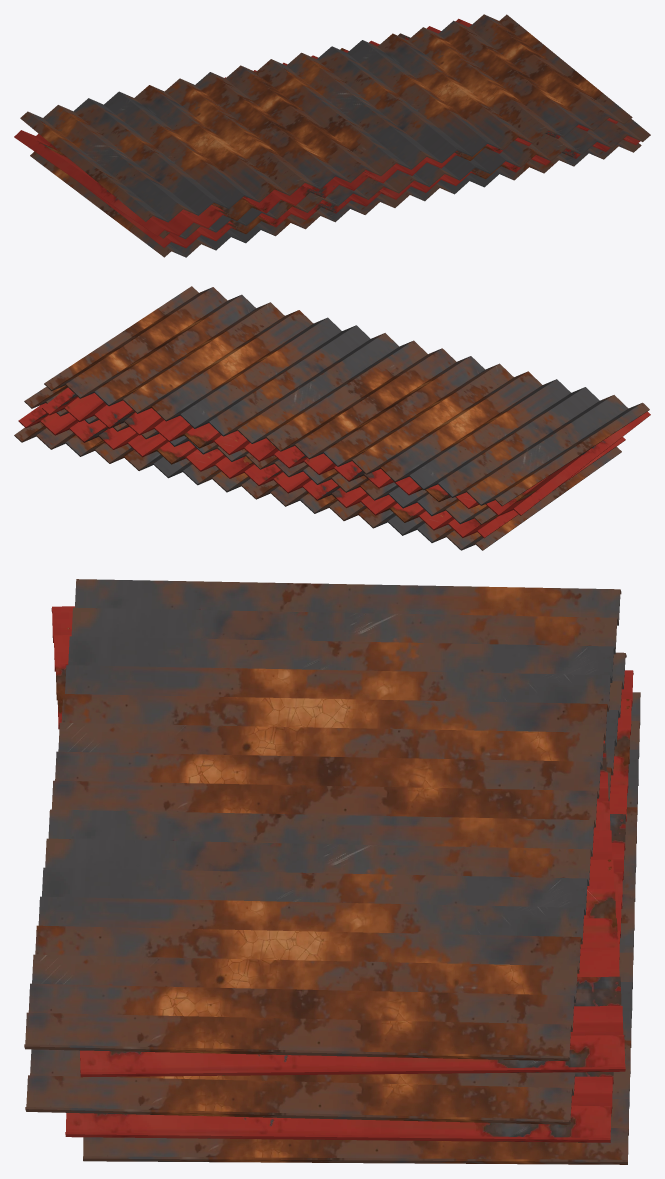
The model's file is Corrugated_Sheet_Stack.glb.
3 views of the same model, one above another, from view 1: azimuth 30°, elevation 25°; view 2: azimuth 150°, elevation 25°; view 3: azimuth 270°, elevation 25° (orthographic). The views are drawn at different scales.
Parts seen in each view (by area): view 1: Corrugated_Sheet_Stack; view 2: Corrugated_Sheet_Stack; view 3: Corrugated_Sheet_Stack.
Boxes of the visible parts, x1,y1,x2,y2 form: Corrugated_Sheet_Stack: [14, 14, 650, 257]; Corrugated_Sheet_Stack: [14, 286, 650, 550]; Corrugated_Sheet_Stack: [24, 579, 640, 1164].
Size of the model in its own units: 2.14 by 0.2341 by 1.13.
2 materials, 2 textured.
